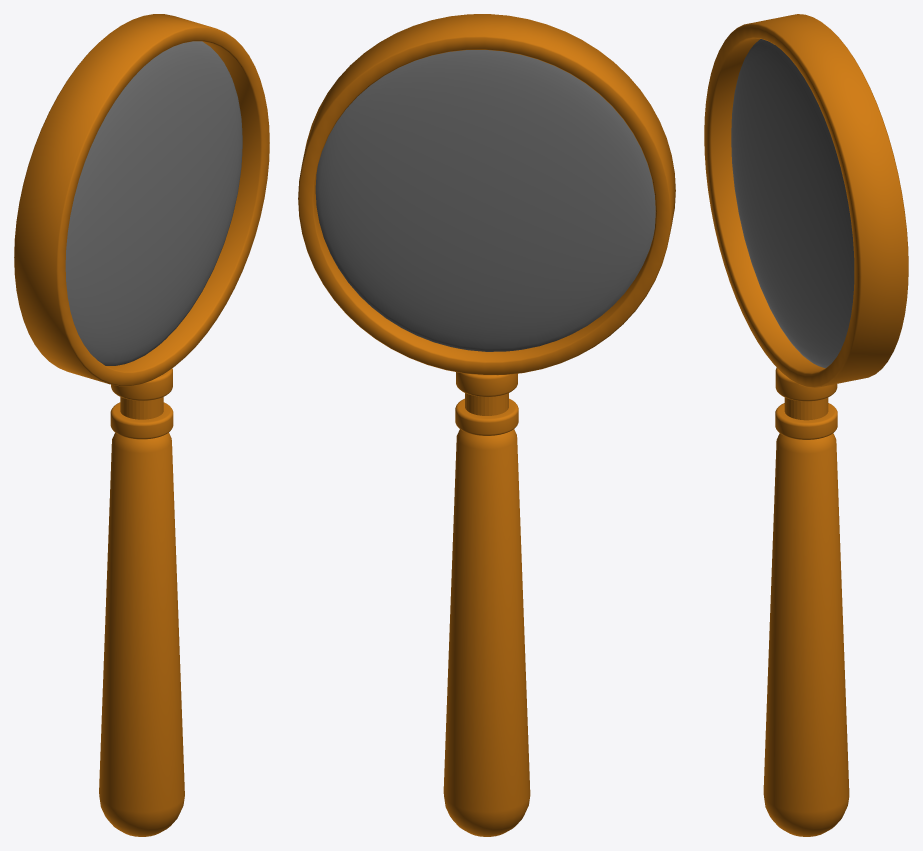
3 renders of one model, left to right at view 1: azimuth 30°, elevation 25°; view 2: azimuth 150°, elevation 25°; view 3: azimuth 270°, elevation 25°, orthographic.
Parts seen in each view (by area): view 1: Loupe_Glass, Loupe_Structure, Loupe_Hand; view 2: Loupe_Glass, Loupe_Structure, Loupe_Hand; view 3: Loupe_Structure, Loupe_Hand, Loupe_Glass.
Part boxes in pixels (x1,y1,x2,y2): Loupe_Glass: (65, 41, 242, 365); Loupe_Structure: (14, 14, 269, 439); Loupe_Hand: (99, 432, 184, 836); Loupe_Glass: (315, 50, 655, 351); Loupe_Structure: (298, 14, 675, 435); Loupe_Hand: (443, 429, 530, 836); Loupe_Structure: (704, 14, 908, 439); Loupe_Hand: (763, 433, 849, 836); Loupe_Glass: (731, 39, 854, 368).
Size of the model in its own units: 14.35 by 8.2 by 35.4.
